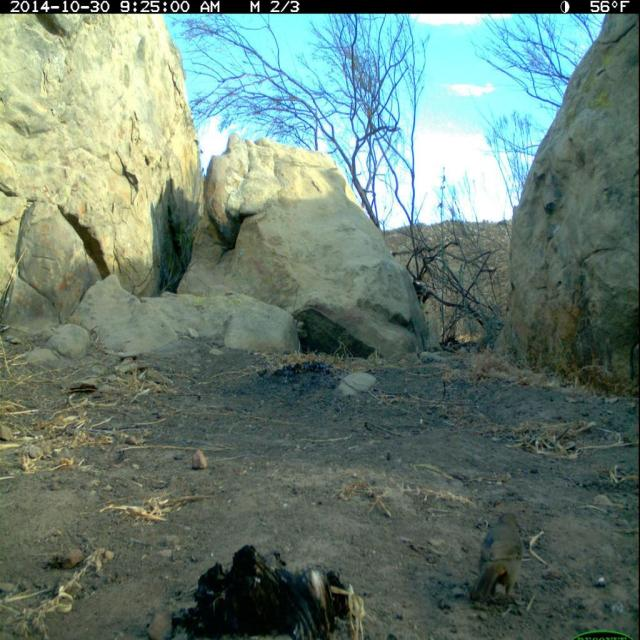bird: (466, 506, 529, 614)
